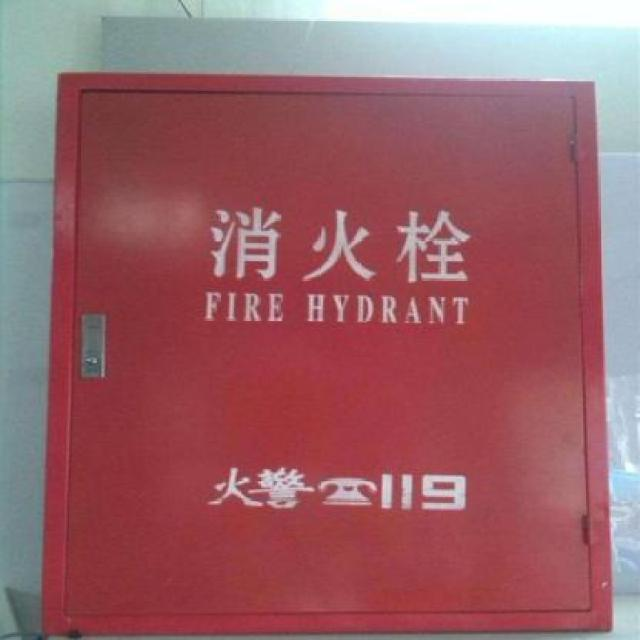firehydrant: (35, 64, 618, 640)
